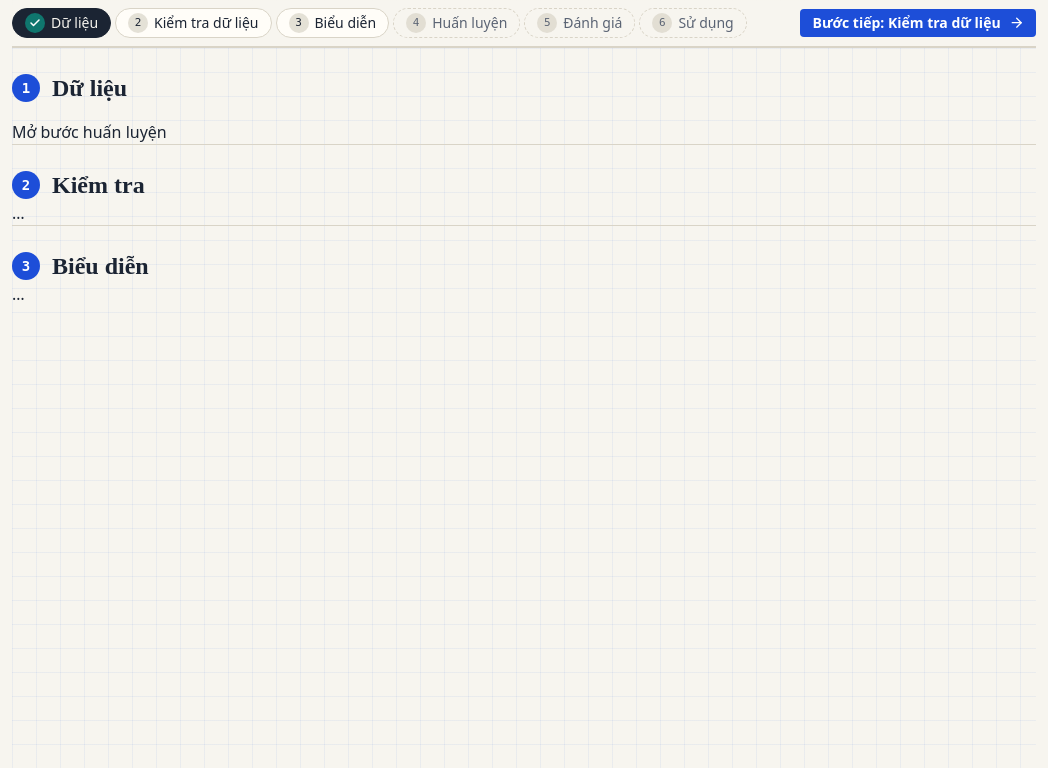
Test: thanh các bước của dự án › "Bước tiếp" đi tới bước đã mở kế tiếp, hết bước mở thì ẩn
This screenshot has width=1048, height=768.
Click the button "Bước tiếp: Kiểm tra dữ liệu" at (918, 23), box x1=800 y1=9 x2=1036 y2=37
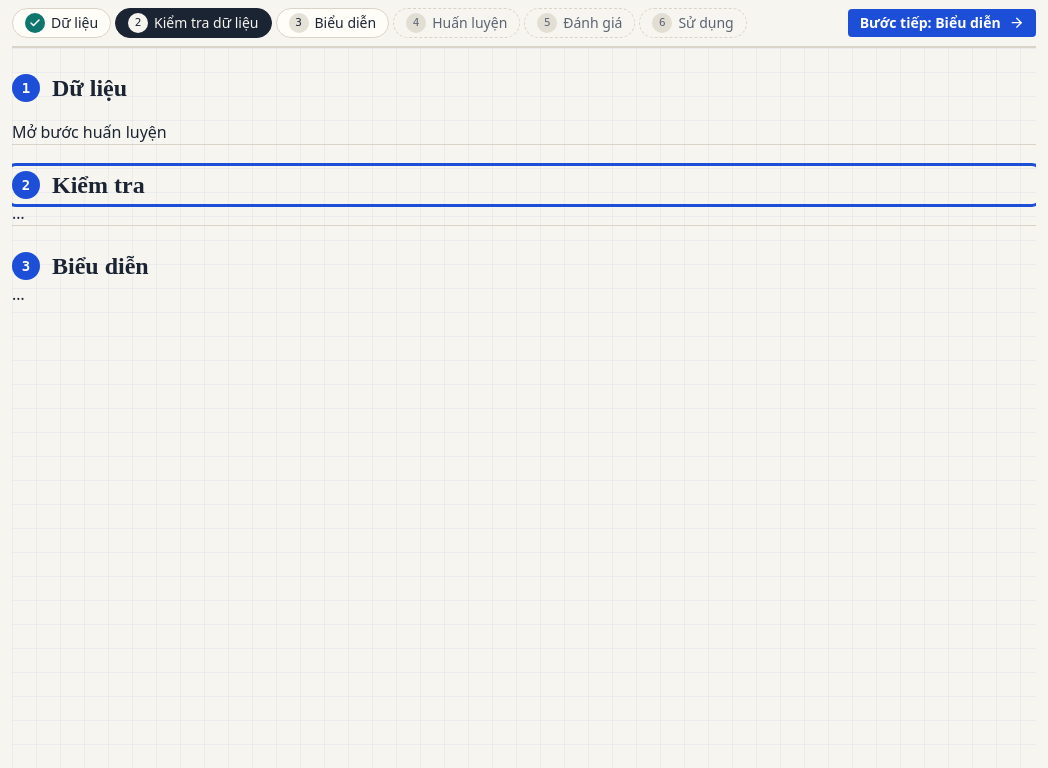
Click the button "Bước tiếp: Biểu diễn" at (942, 23), box x1=848 y1=9 x2=1036 y2=37
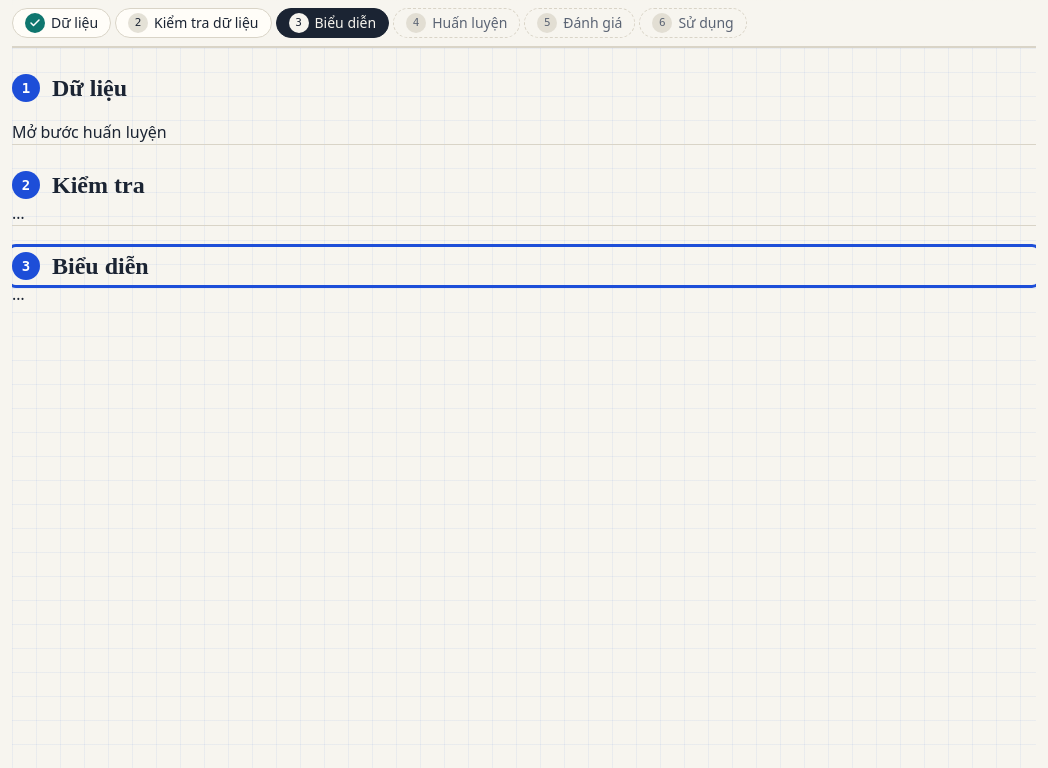
Now the button "Bước tiếp" is gone
